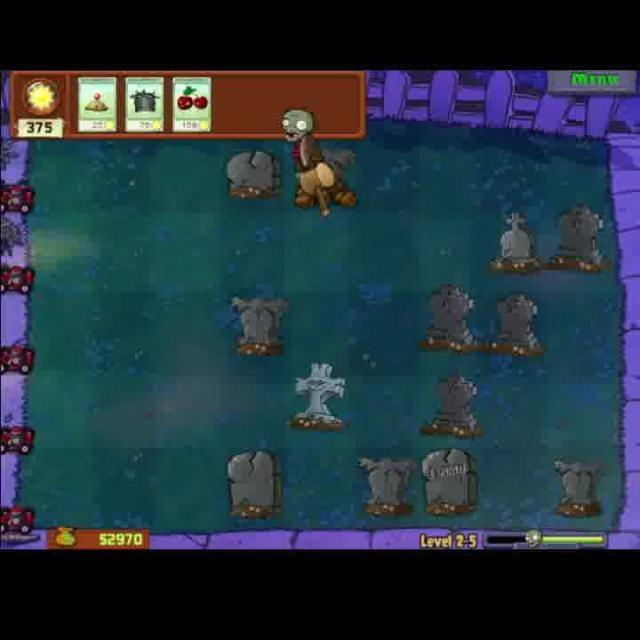zombies: (276, 105, 332, 211)
